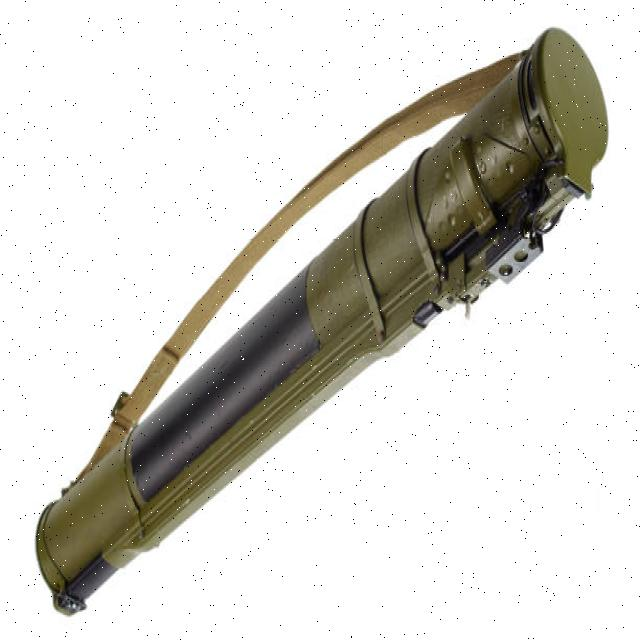bazooka: (30, 23, 615, 631)
